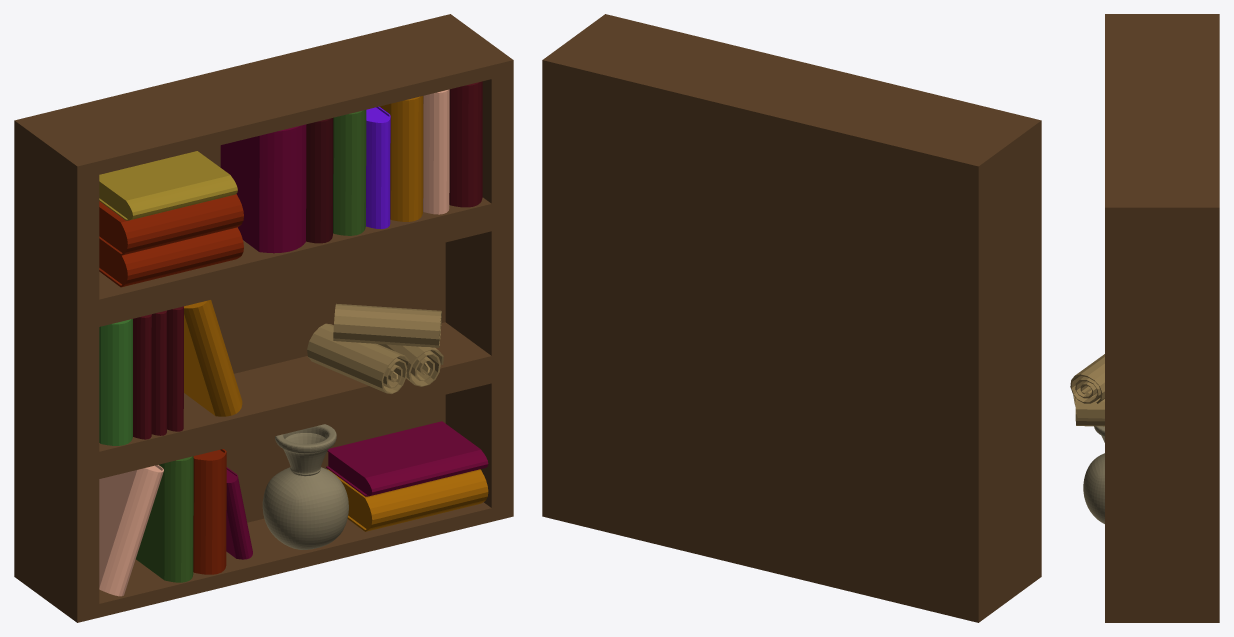
The model's file is estante.fbx.
3 views of the same model, side by side, from view 1: azimuth 30°, elevation 25°; view 2: azimuth 150°, elevation 25°; view 3: azimuth 270°, elevation 25° (orthographic). The views are drawn at different scales.
Visible parts, largest first — view 1: livro.002; view 2: livro.002; view 3: livro.002.
Part boxes in pixels (left/top/right/bottom): livro.002: left=14, top=14, right=513, bottom=622; livro.002: left=542, top=14, right=1041, bottom=622; livro.002: left=1070, top=14, right=1219, bottom=622.
Size of the model in its own units: 200 by 200 by 65.13.
